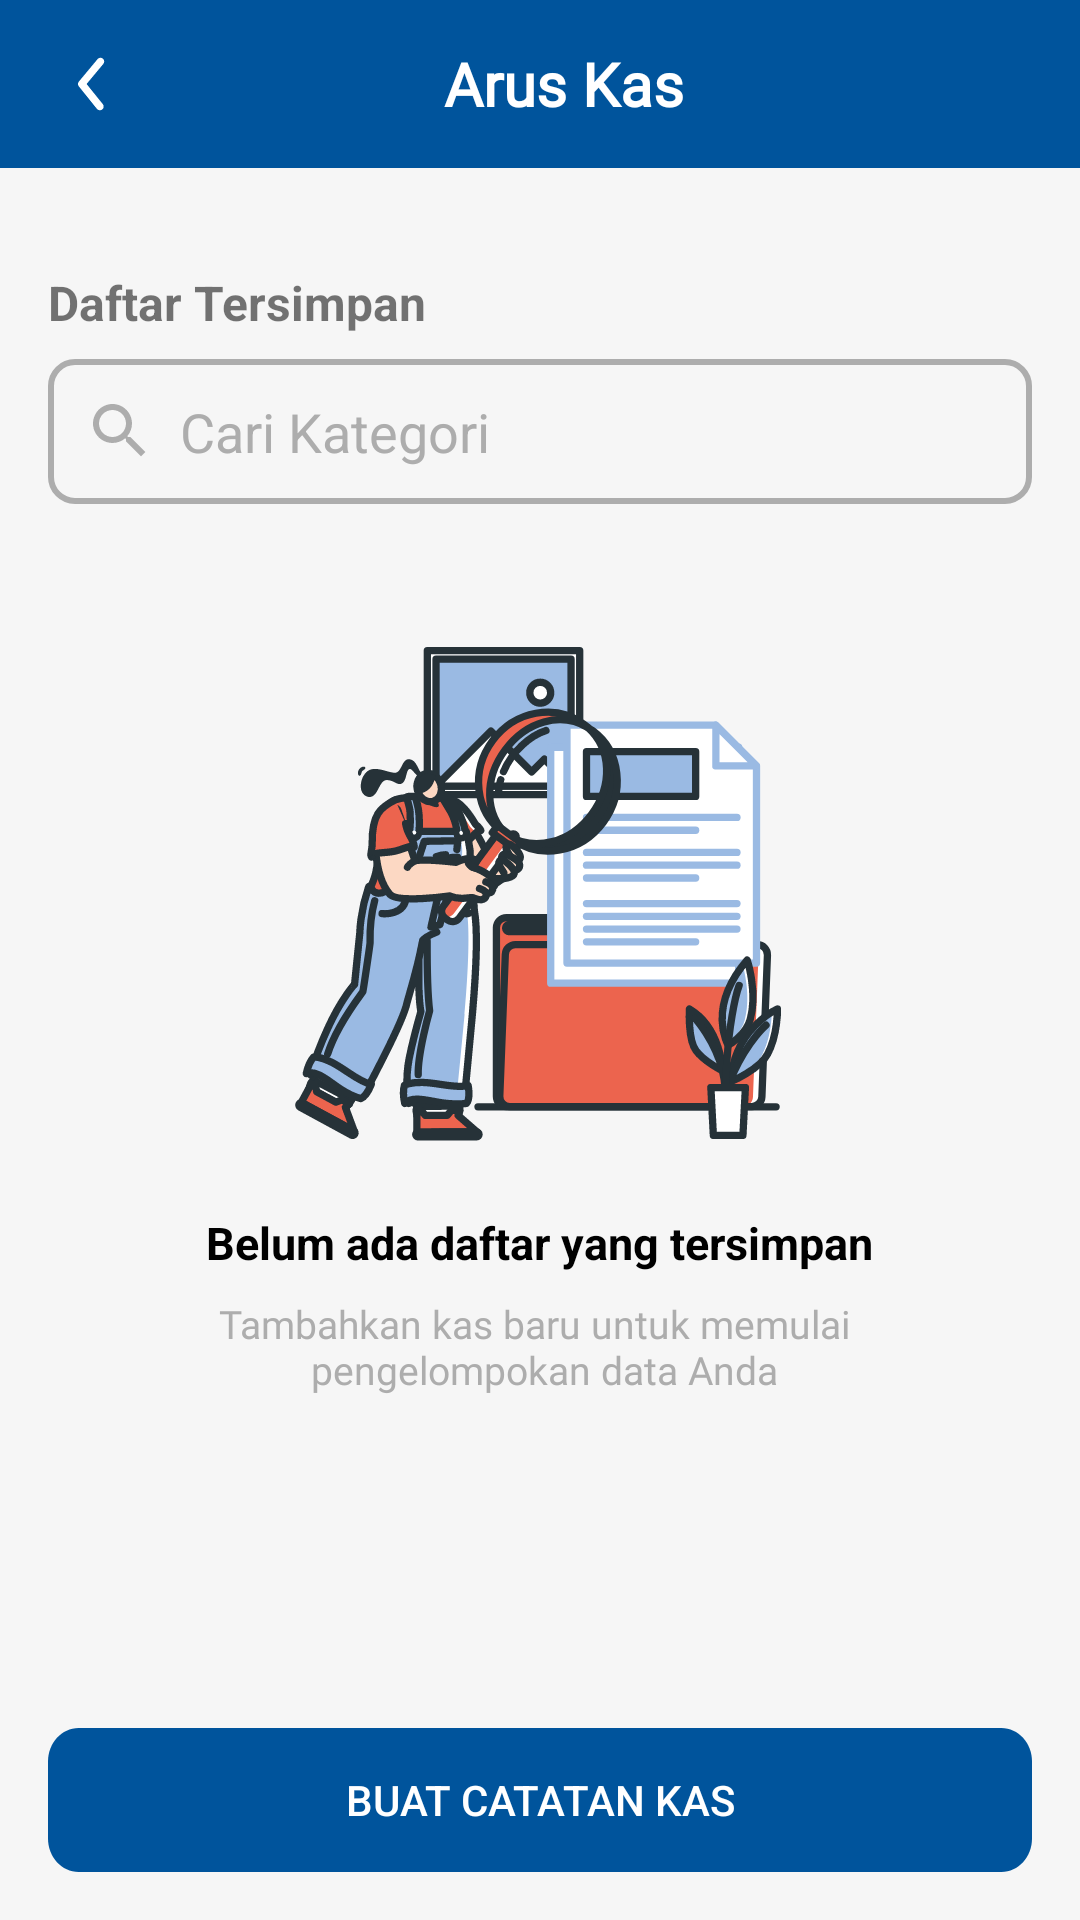

Screen size 1080px×1920px. Icon name, then its center in pixels as (x=x, y=y):
back arrow: (x=91, y=84)
Cari catatan kas: (x=119, y=430)
